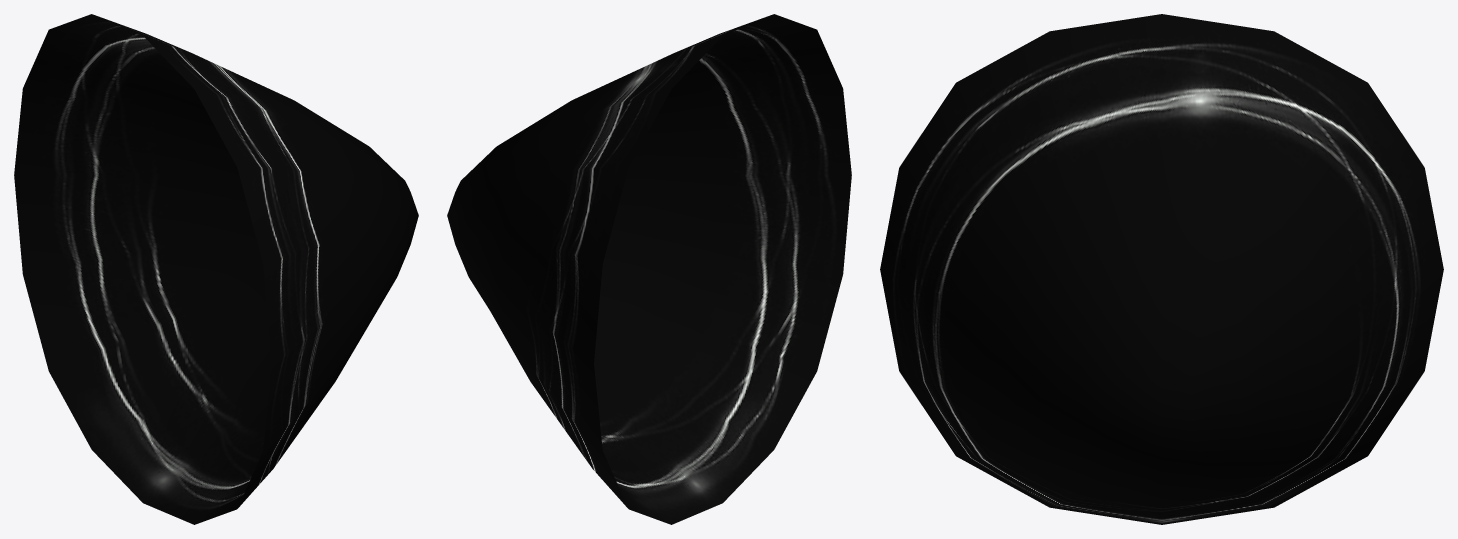
Rendered from ArrowWaveMesh.fbx.
The picture shows the model from 3 angles, left to right: view 1: azimuth 30°, elevation 25°; view 2: azimuth 150°, elevation 25°; view 3: azimuth 270°, elevation 25°; orthographic projection. The views are drawn at different scales.
Visible parts, largest first — view 1: ArrowWaveMesh; view 2: ArrowWaveMesh; view 3: ArrowWaveMesh.
Part boxes in pixels (x1,y1,x2,y2): ArrowWaveMesh: [14, 14, 418, 524]; ArrowWaveMesh: [447, 14, 851, 524]; ArrowWaveMesh: [880, 14, 1443, 524].
Bounding box in the file's own units: 0.8767 × 1.45 × 1.45.
1 material, 1 textured.
